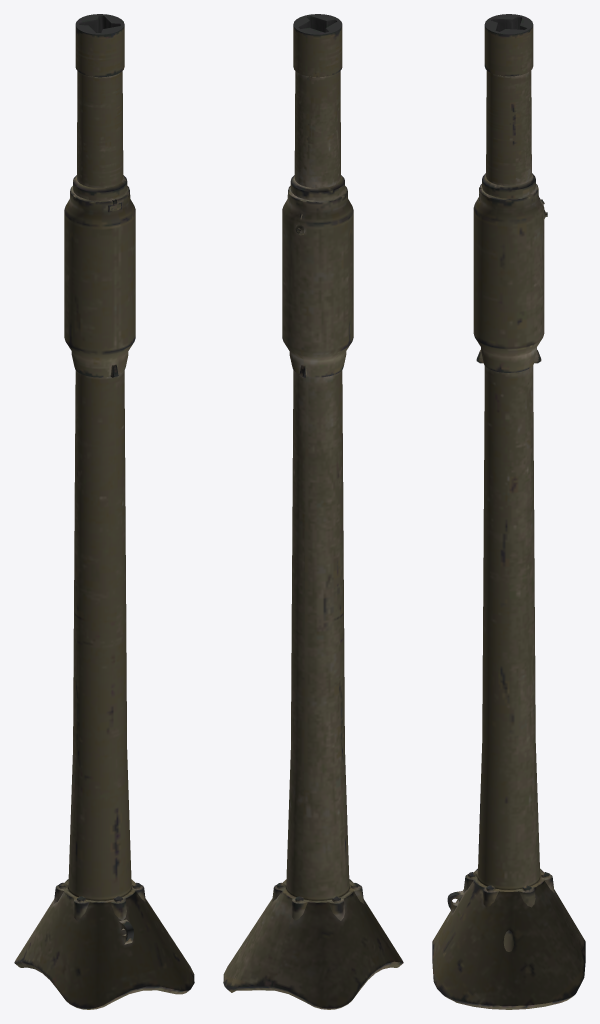
Rendered from Gun_02.glb.
The picture shows the model from 3 angles, left to right: view 1: azimuth 30°, elevation 25°; view 2: azimuth 150°, elevation 25°; view 3: azimuth 270°, elevation 25°; orthographic projection.
Parts seen in each view (by area): view 1: set_0_group_0; view 2: set_0_group_0; view 3: set_0_group_0.
Part boxes in pixels (box(x1,y1,x2,y2)): set_0_group_0: box(14, 14, 194, 1009); set_0_group_0: box(223, 14, 403, 1009); set_0_group_0: box(432, 14, 585, 1009).
Size of the model in its own units: 0.7109 by 4.56 by 0.6687.
Materials: 1 (1 with a texture image).
